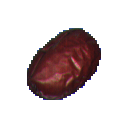ng: (20, 21, 109, 106)
